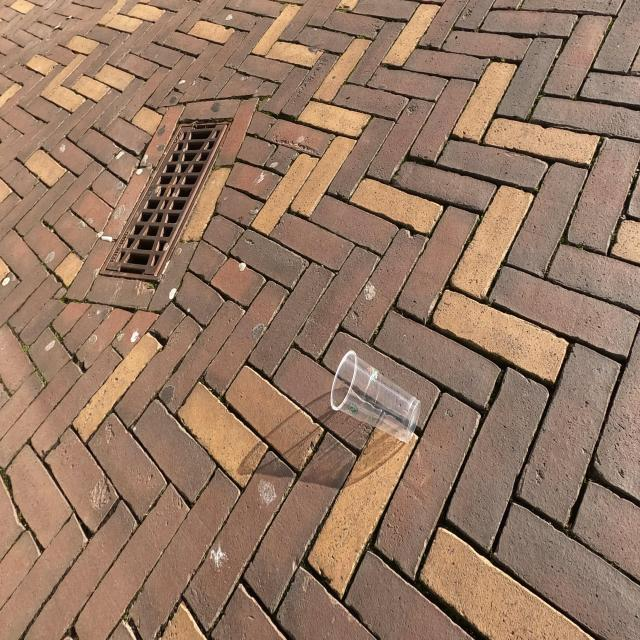Cup: (326, 348, 424, 446)
